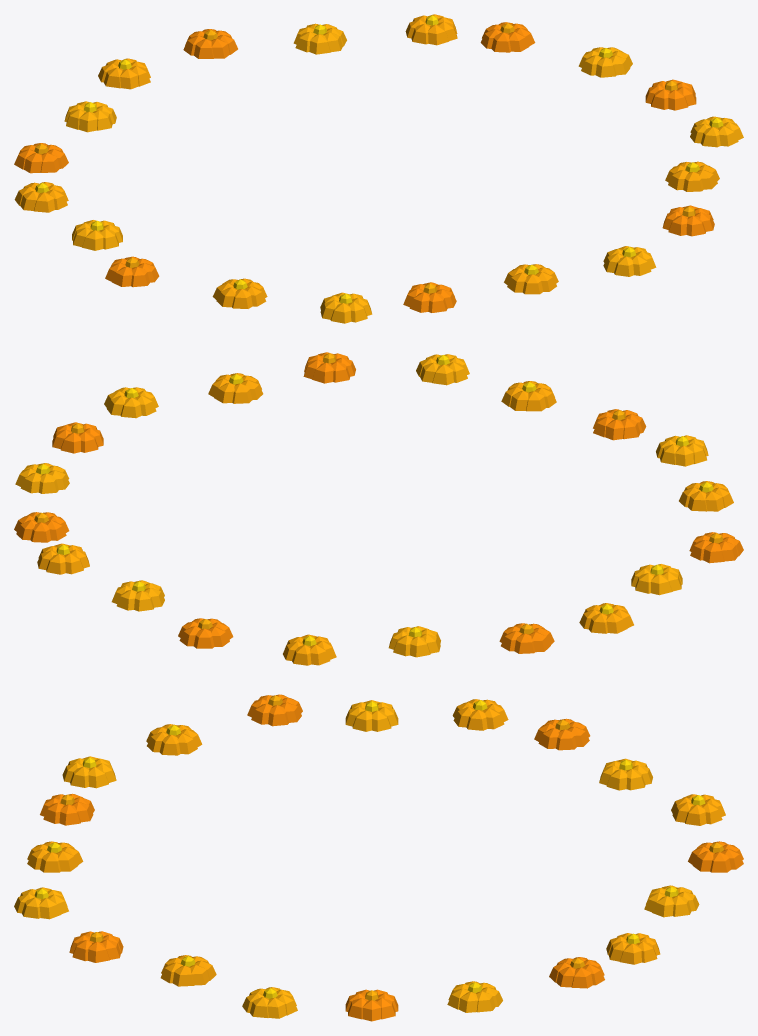
The model's file is cempasuchil-floor-20.glb.
3 views of the same model, one above another, from view 1: azimuth 30°, elevation 25°; view 2: azimuth 150°, elevation 25°; view 3: azimuth 270°, elevation 25° (orthographic). The views are drawn at different scales.
Visible parts, largest first — view 1: flower-06-petals, flower-20-petals, flower-03-petals, flower-09-petals, flower-02-petals, flower-15-petals, flower-19-petals, flower-05-petals, flower-12-petals, flower-17-petals, flower-08-petals, flower-13-petals (+8 smaller); view 2: flower-19-petals, flower-16-petals, flower-02-petals, flower-03-petals, flower-10-petals, flower-13-petals, flower-06-petals, flower-20-petals, flower-05-petals, flower-09-petals, flower-07-petals, flower-12-petals (+8 smaller); view 3: flower-06-petals, flower-09-petals, flower-03-petals, flower-16-petals, flower-19-petals, flower-10-petals, flower-13-petals, flower-12-petals, flower-01-petals, flower-02-petals, flower-18-petals, flower-07-petals (+8 smaller).
Part boxes in pixels (x1,y1,x2,y2): flower-06-petals: (504, 264, 558, 294); flower-20-petals: (578, 47, 632, 77); flower-03-petals: (665, 161, 719, 191); flower-09-petals: (212, 278, 267, 308); flower-02-petals: (690, 116, 743, 147); flower-15-petals: (98, 58, 150, 89); flower-19-petals: (480, 22, 535, 52); flower-05-petals: (603, 246, 656, 276); flower-12-petals: (14, 182, 68, 212); flower-17-petals: (293, 23, 346, 54); flower-08-petals: (320, 292, 372, 323); flower-13-petals: (14, 143, 68, 173); flower-19-petals: (14, 512, 69, 542); flower-16-petals: (178, 618, 233, 648); flower-02-petals: (104, 387, 158, 418); flower-03-petals: (208, 373, 263, 403); flower-10-petals: (689, 532, 743, 563); flower-13-petals: (499, 623, 554, 653); flower-06-petals: (501, 381, 556, 411); flower-20-petals: (15, 463, 69, 493); flower-05-petals: (416, 354, 469, 385); flower-09-petals: (679, 481, 733, 511); flower-07-petals: (593, 409, 646, 440); flower-12-petals: (579, 603, 633, 633); flower-06-petals: (27, 841, 83, 872); flower-09-petals: (146, 724, 202, 755); flower-03-petals: (160, 955, 216, 986); flower-16-petals: (688, 841, 743, 872); flower-19-petals: (549, 957, 604, 988); flower-10-petals: (247, 694, 302, 726); flower-13-petals: (534, 718, 590, 750); flower-12-petals: (452, 699, 508, 730); flower-01-petals: (345, 989, 398, 1021); flower-02-petals: (242, 987, 297, 1018); flower-18-petals: (606, 933, 660, 964); flower-07-petals: (40, 793, 94, 825).
Bounding box in the file's own units: 6.94 × 0.195 × 6.72.
